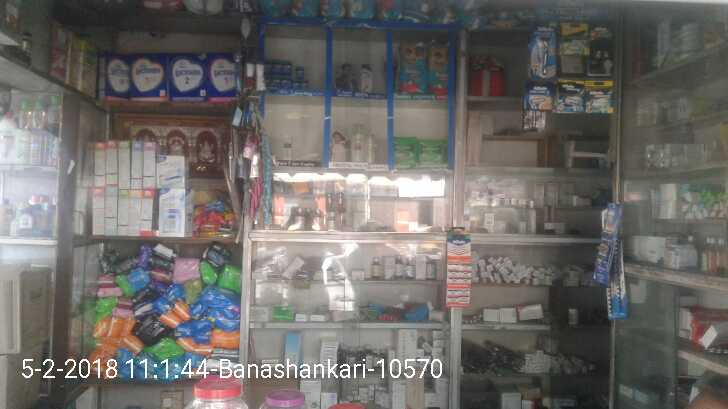beauty: (332, 120, 350, 164), (350, 121, 363, 161), (362, 63, 374, 95), (364, 130, 375, 163), (281, 136, 294, 161)
pharmacy: (392, 41, 429, 96), (430, 43, 450, 98), (392, 137, 418, 168), (418, 140, 446, 167), (273, 58, 291, 77), (294, 64, 309, 83)
